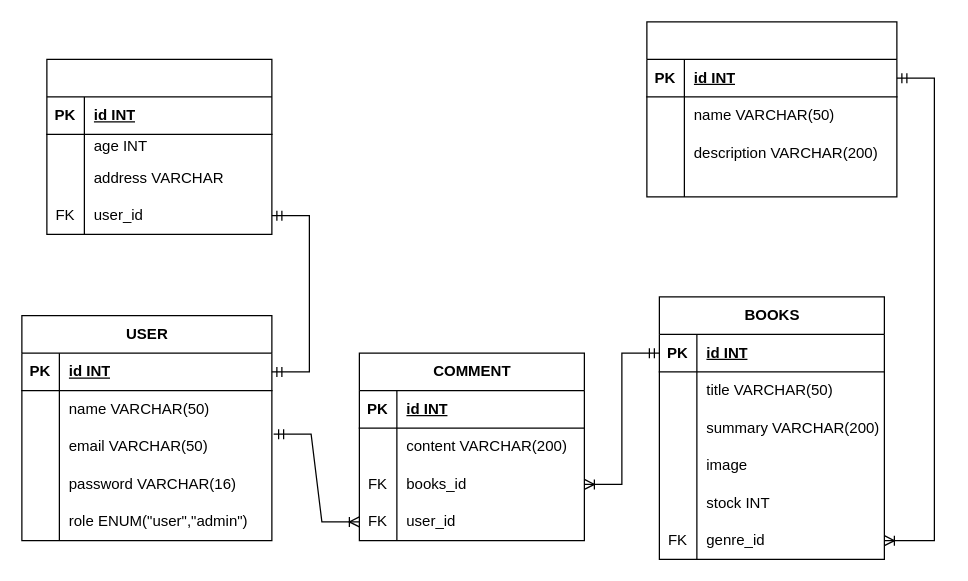
Some shapes in this 968 by 581 pixel diagram are drawn without their labels. Each missing label, with the box of its shape:
GENRE: (646, 21, 897, 197)
PROFILE: (46, 58, 272, 234)
